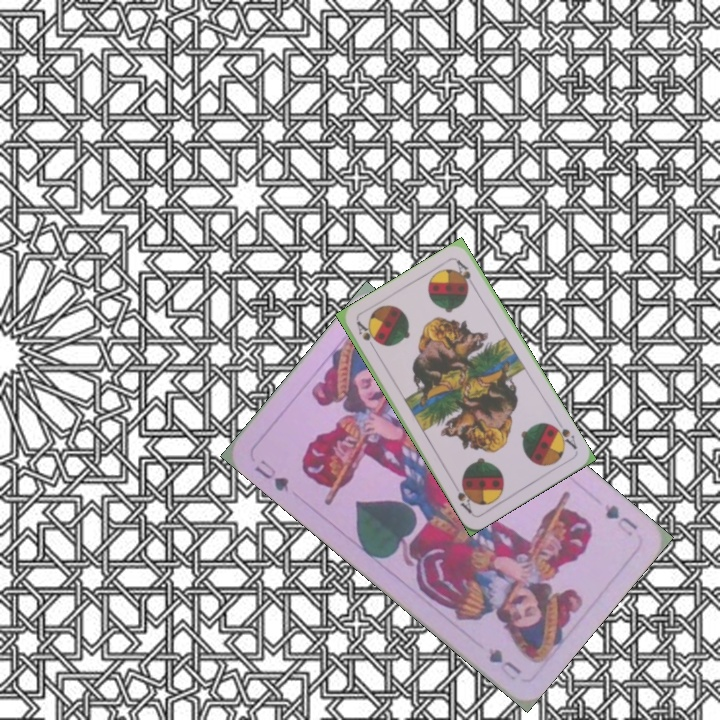GU: (250, 456, 291, 495), (600, 500, 641, 539)
SA: (548, 417, 580, 452), (352, 317, 379, 354)
